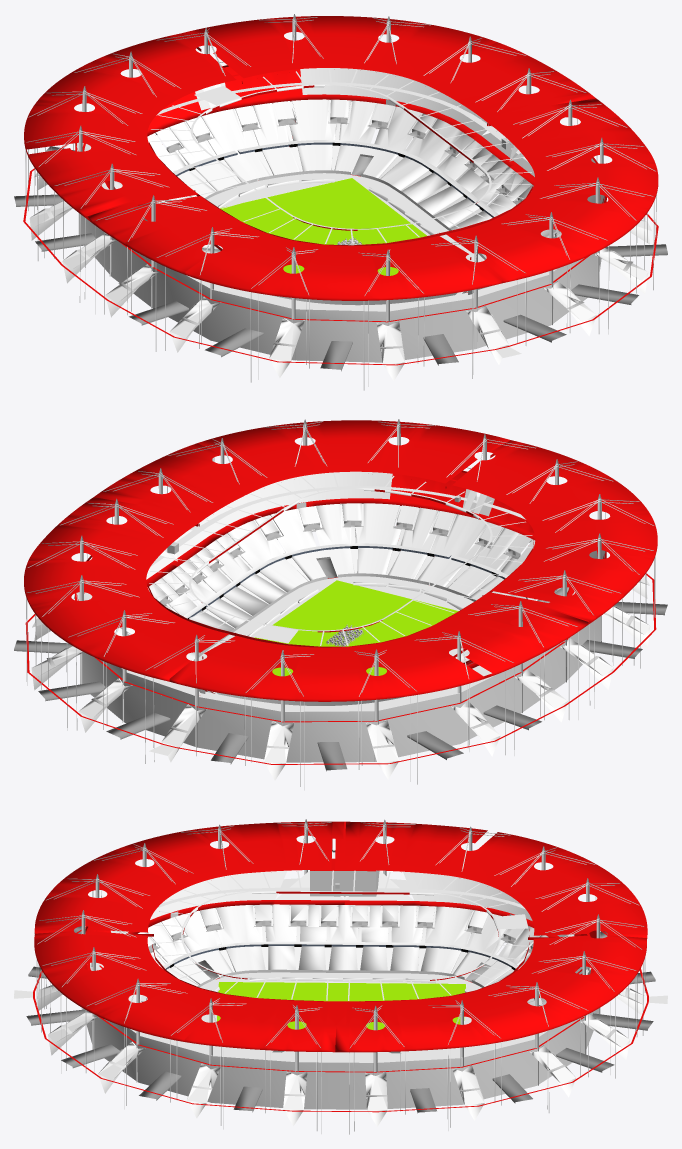
File: stade.glb
The picture shows the model from 3 angles, top to bottom: view 1: azimuth 30°, elevation 25°; view 2: azimuth 150°, elevation 25°; view 3: azimuth 270°, elevation 25°; orthographic projection. The views are drawn at different scales.
Visible parts, largest first — view 1: STADE.1-_1; view 2: STADE.1-_1; view 3: STADE.1-_1.
Boxes of the visible parts, x1,y1,x2,y2 form: STADE.1-_1: (14,14,667,390); STADE.1-_1: (14,419,667,790); STADE.1-_1: (14,819,667,1134).
Size of the model in its own units: 2.83 by 0.6462 by 3.37.
